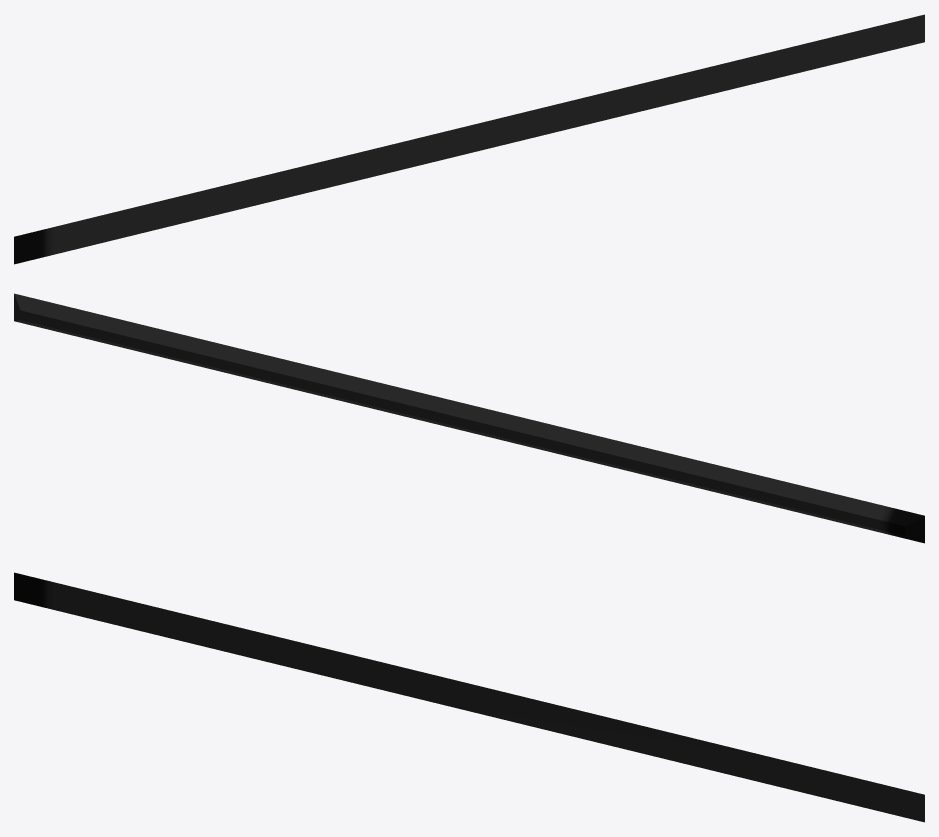
The model's file is Structure03_Art.fbx.
3 renders of one model, top to bottom at view 1: azimuth 30°, elevation 25°; view 2: azimuth 150°, elevation 25°; view 3: azimuth 330°, elevation 25°, orthographic.
Visible parts, largest first — view 1: Structure03_Art; view 2: Structure03_Art; view 3: Structure03_Art.
Boxes of the visible parts, x1,y1,x2,y2 form: Structure03_Art: (14,14,924,264); Structure03_Art: (14,293,924,543); Structure03_Art: (14,572,924,822).
Bounding box in the file's own units: 16.02 × 0.4662 × 0.1997.
